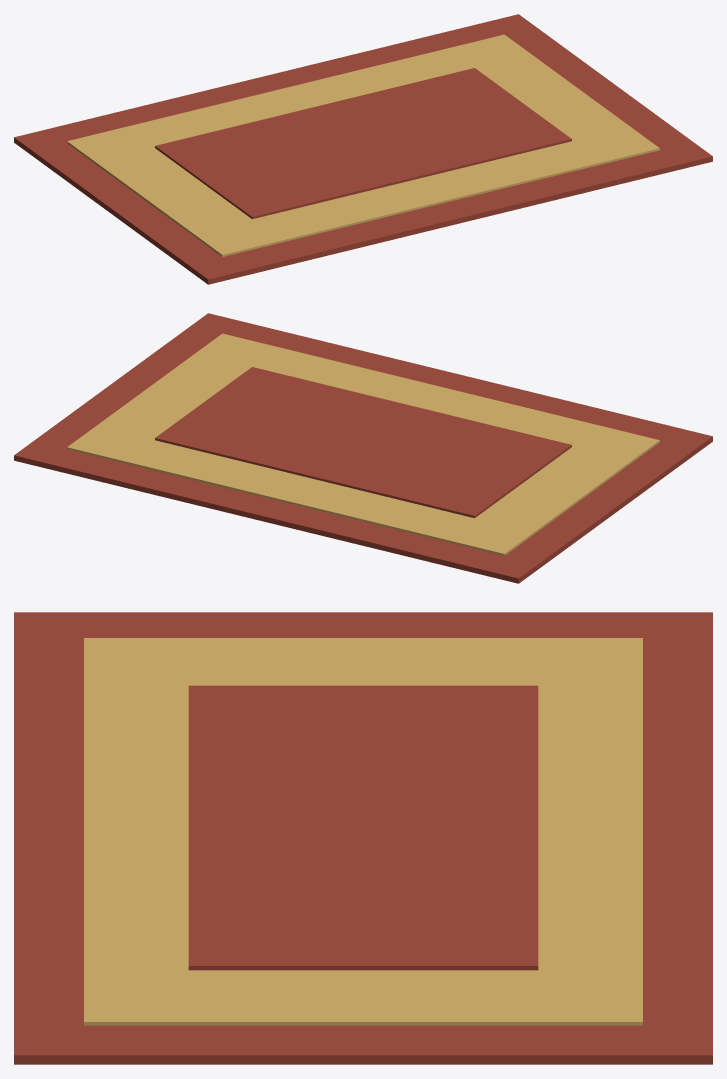
File: rug.glb
The picture shows the model from 3 angles, top to bottom: view 1: azimuth 30°, elevation 25°; view 2: azimuth 150°, elevation 25°; view 3: azimuth 270°, elevation 25°; orthographic projection. The views are drawn at different scales.
Visible parts, largest first — view 1: mid, edge, core; view 2: mid, edge, core; view 3: mid, core, edge.
Boxes of the visible parts, x1,y1,x2,y2 form: mid: (67,34,659,256); edge: (14,14,712,284); core: (155,68,571,219); mid: (67,333,659,555); edge: (14,313,712,583); core: (155,367,571,518); mid: (84,638,642,1025); core: (188,685,538,970); edge: (14,612,712,1064).
Size of the model in its own units: 3 by 0.055 by 2.
